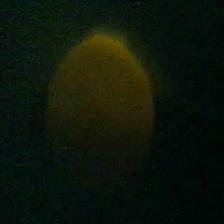fertile: (44, 31, 158, 201)
